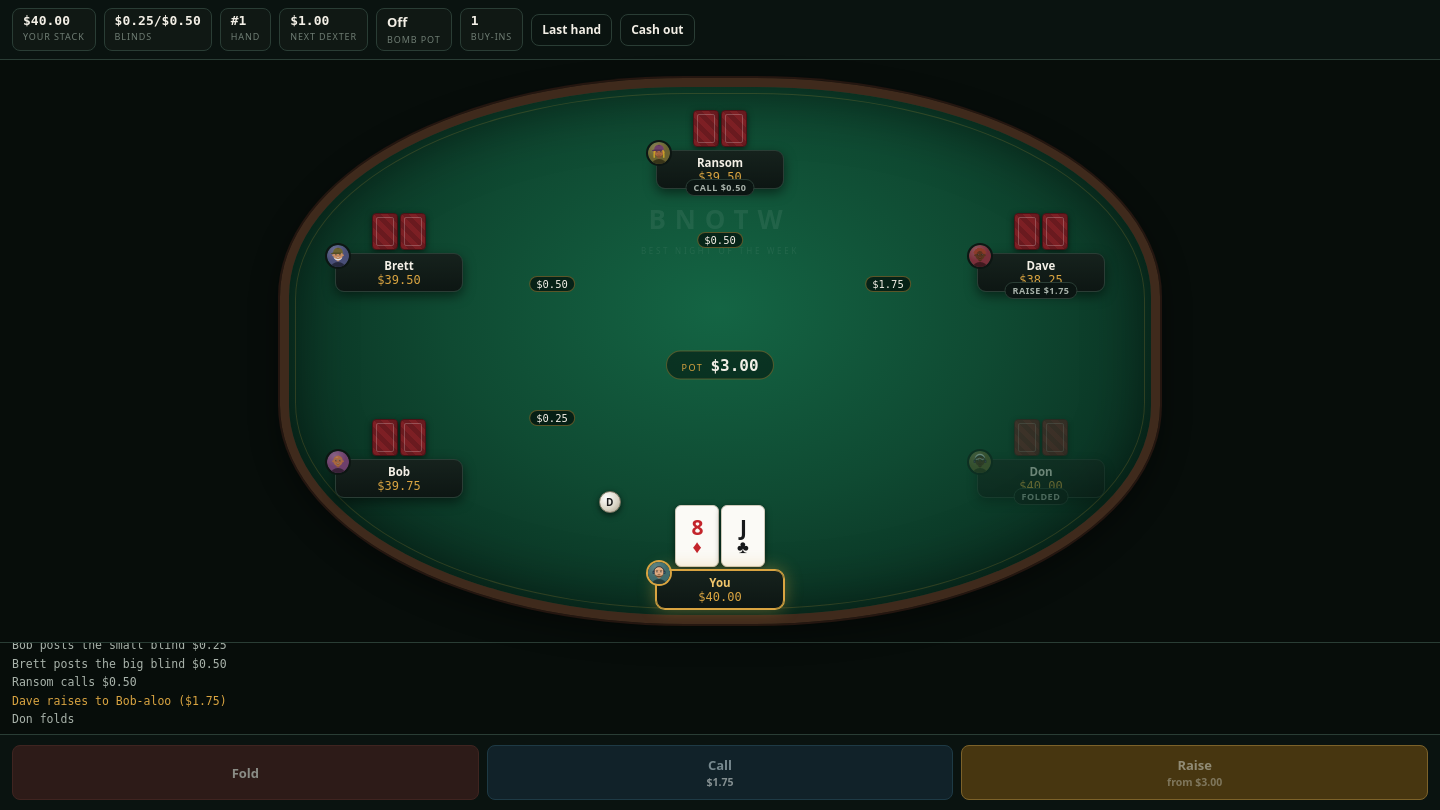
it: the last hand › closes again
(page scrolled)
Click the button "Last hand": (572, 30) [531,14,612,46]
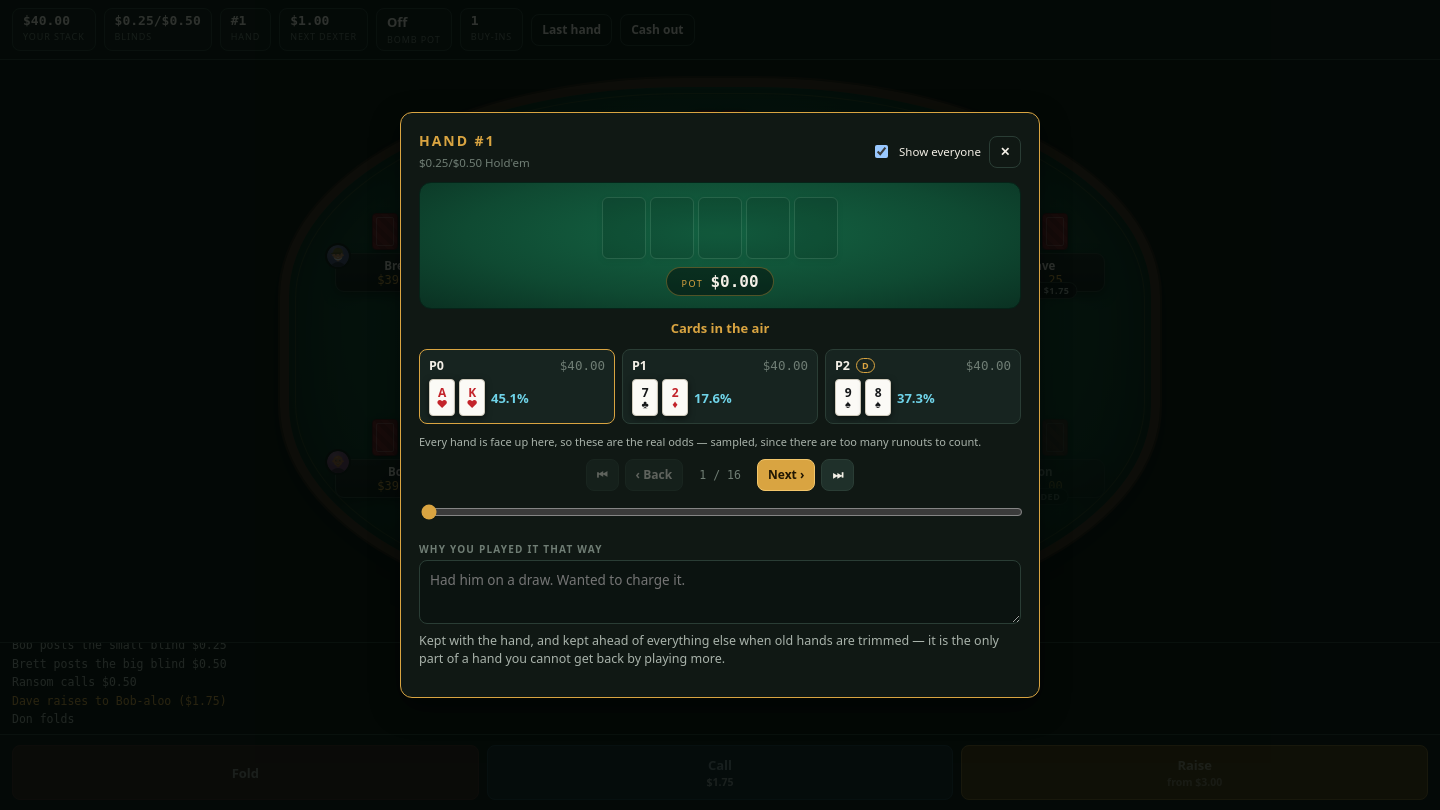
Press Escape
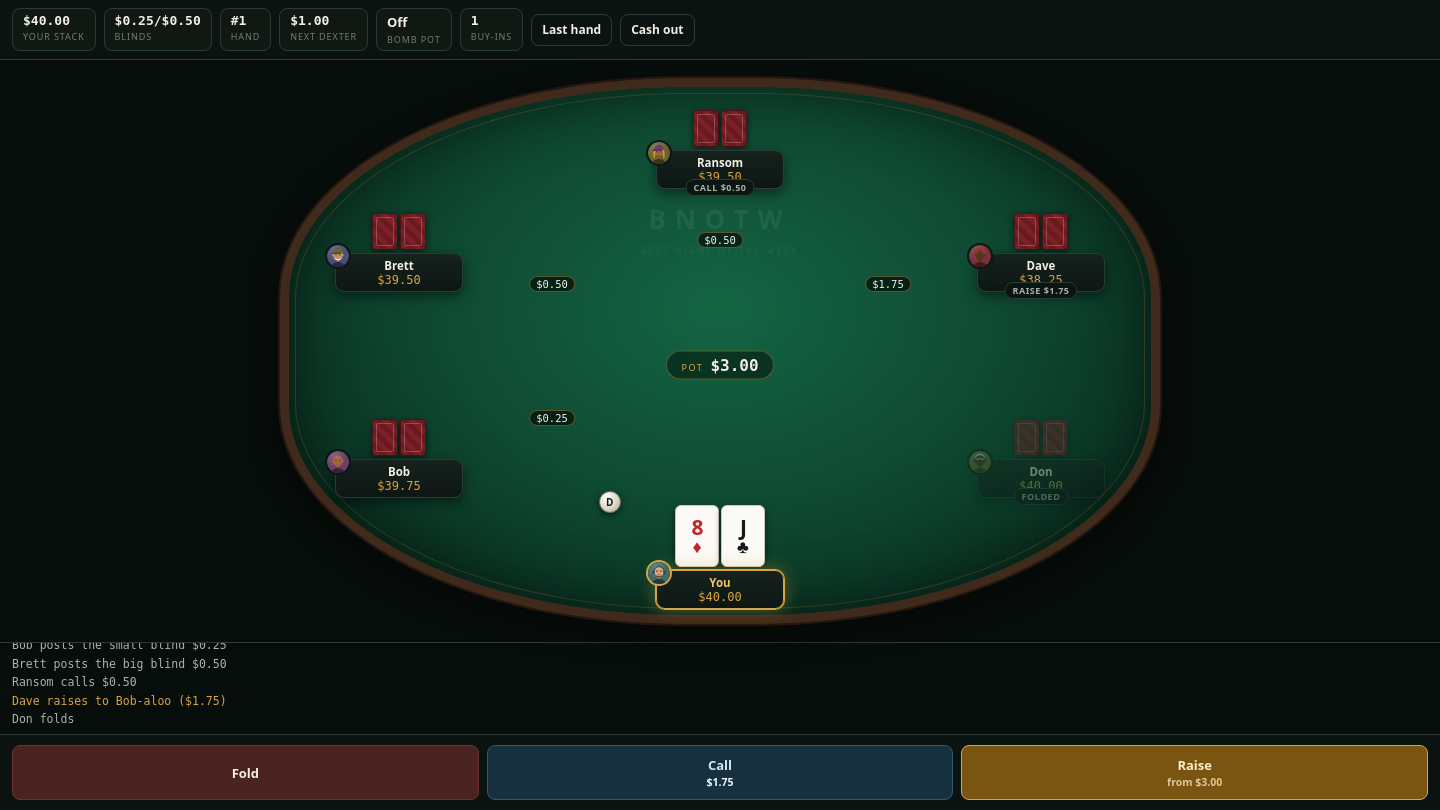
Now the button with class "replay" is gone
